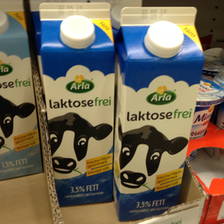milk: (118, 6, 204, 224), (38, 3, 115, 207)
